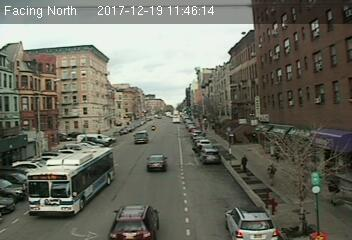bus: (26, 148, 115, 218)
car: (109, 205, 162, 240), (225, 205, 278, 238), (146, 154, 168, 171), (201, 148, 221, 164), (133, 130, 148, 144)
pedestrian: (239, 155, 248, 173)
